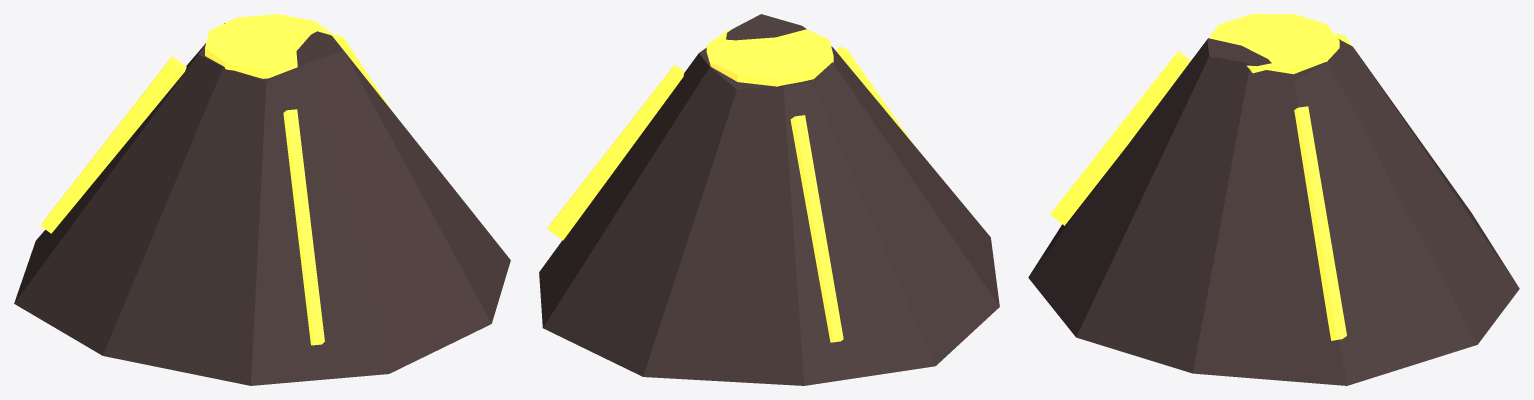
The model's file is LavaMountain.fbx.
3 views of the same model, side by side, from view 1: azimuth 30°, elevation 25°; view 2: azimuth 150°, elevation 25°; view 3: azimuth 270°, elevation 25° (orthographic). The views are drawn at different scales.
Parts seen in each view (by area): view 1: Basalt, Lava; view 2: Basalt, Lava; view 3: Basalt, Lava.
Boxes of the visible parts, x1,y1,x2,y2 form: Basalt: (14,23,510,385); Lava: (41,14,390,345); Basalt: (539,14,999,385); Lava: (547,29,912,342); Basalt: (1028,38,1519,385); Lava: (1050,14,1351,340).
Size of the model in its own units: 6.07 by 3.56 by 6.28.
